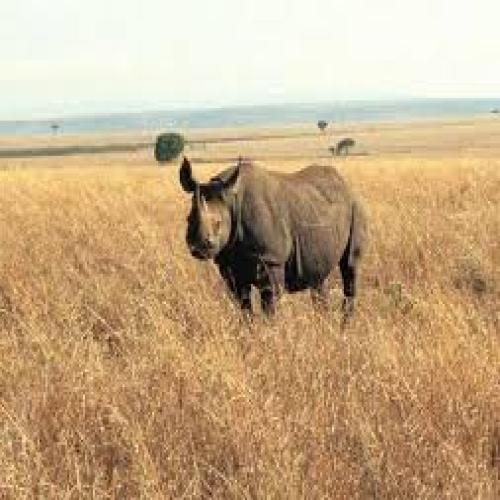rhino-endangered: (177, 153, 369, 319)
